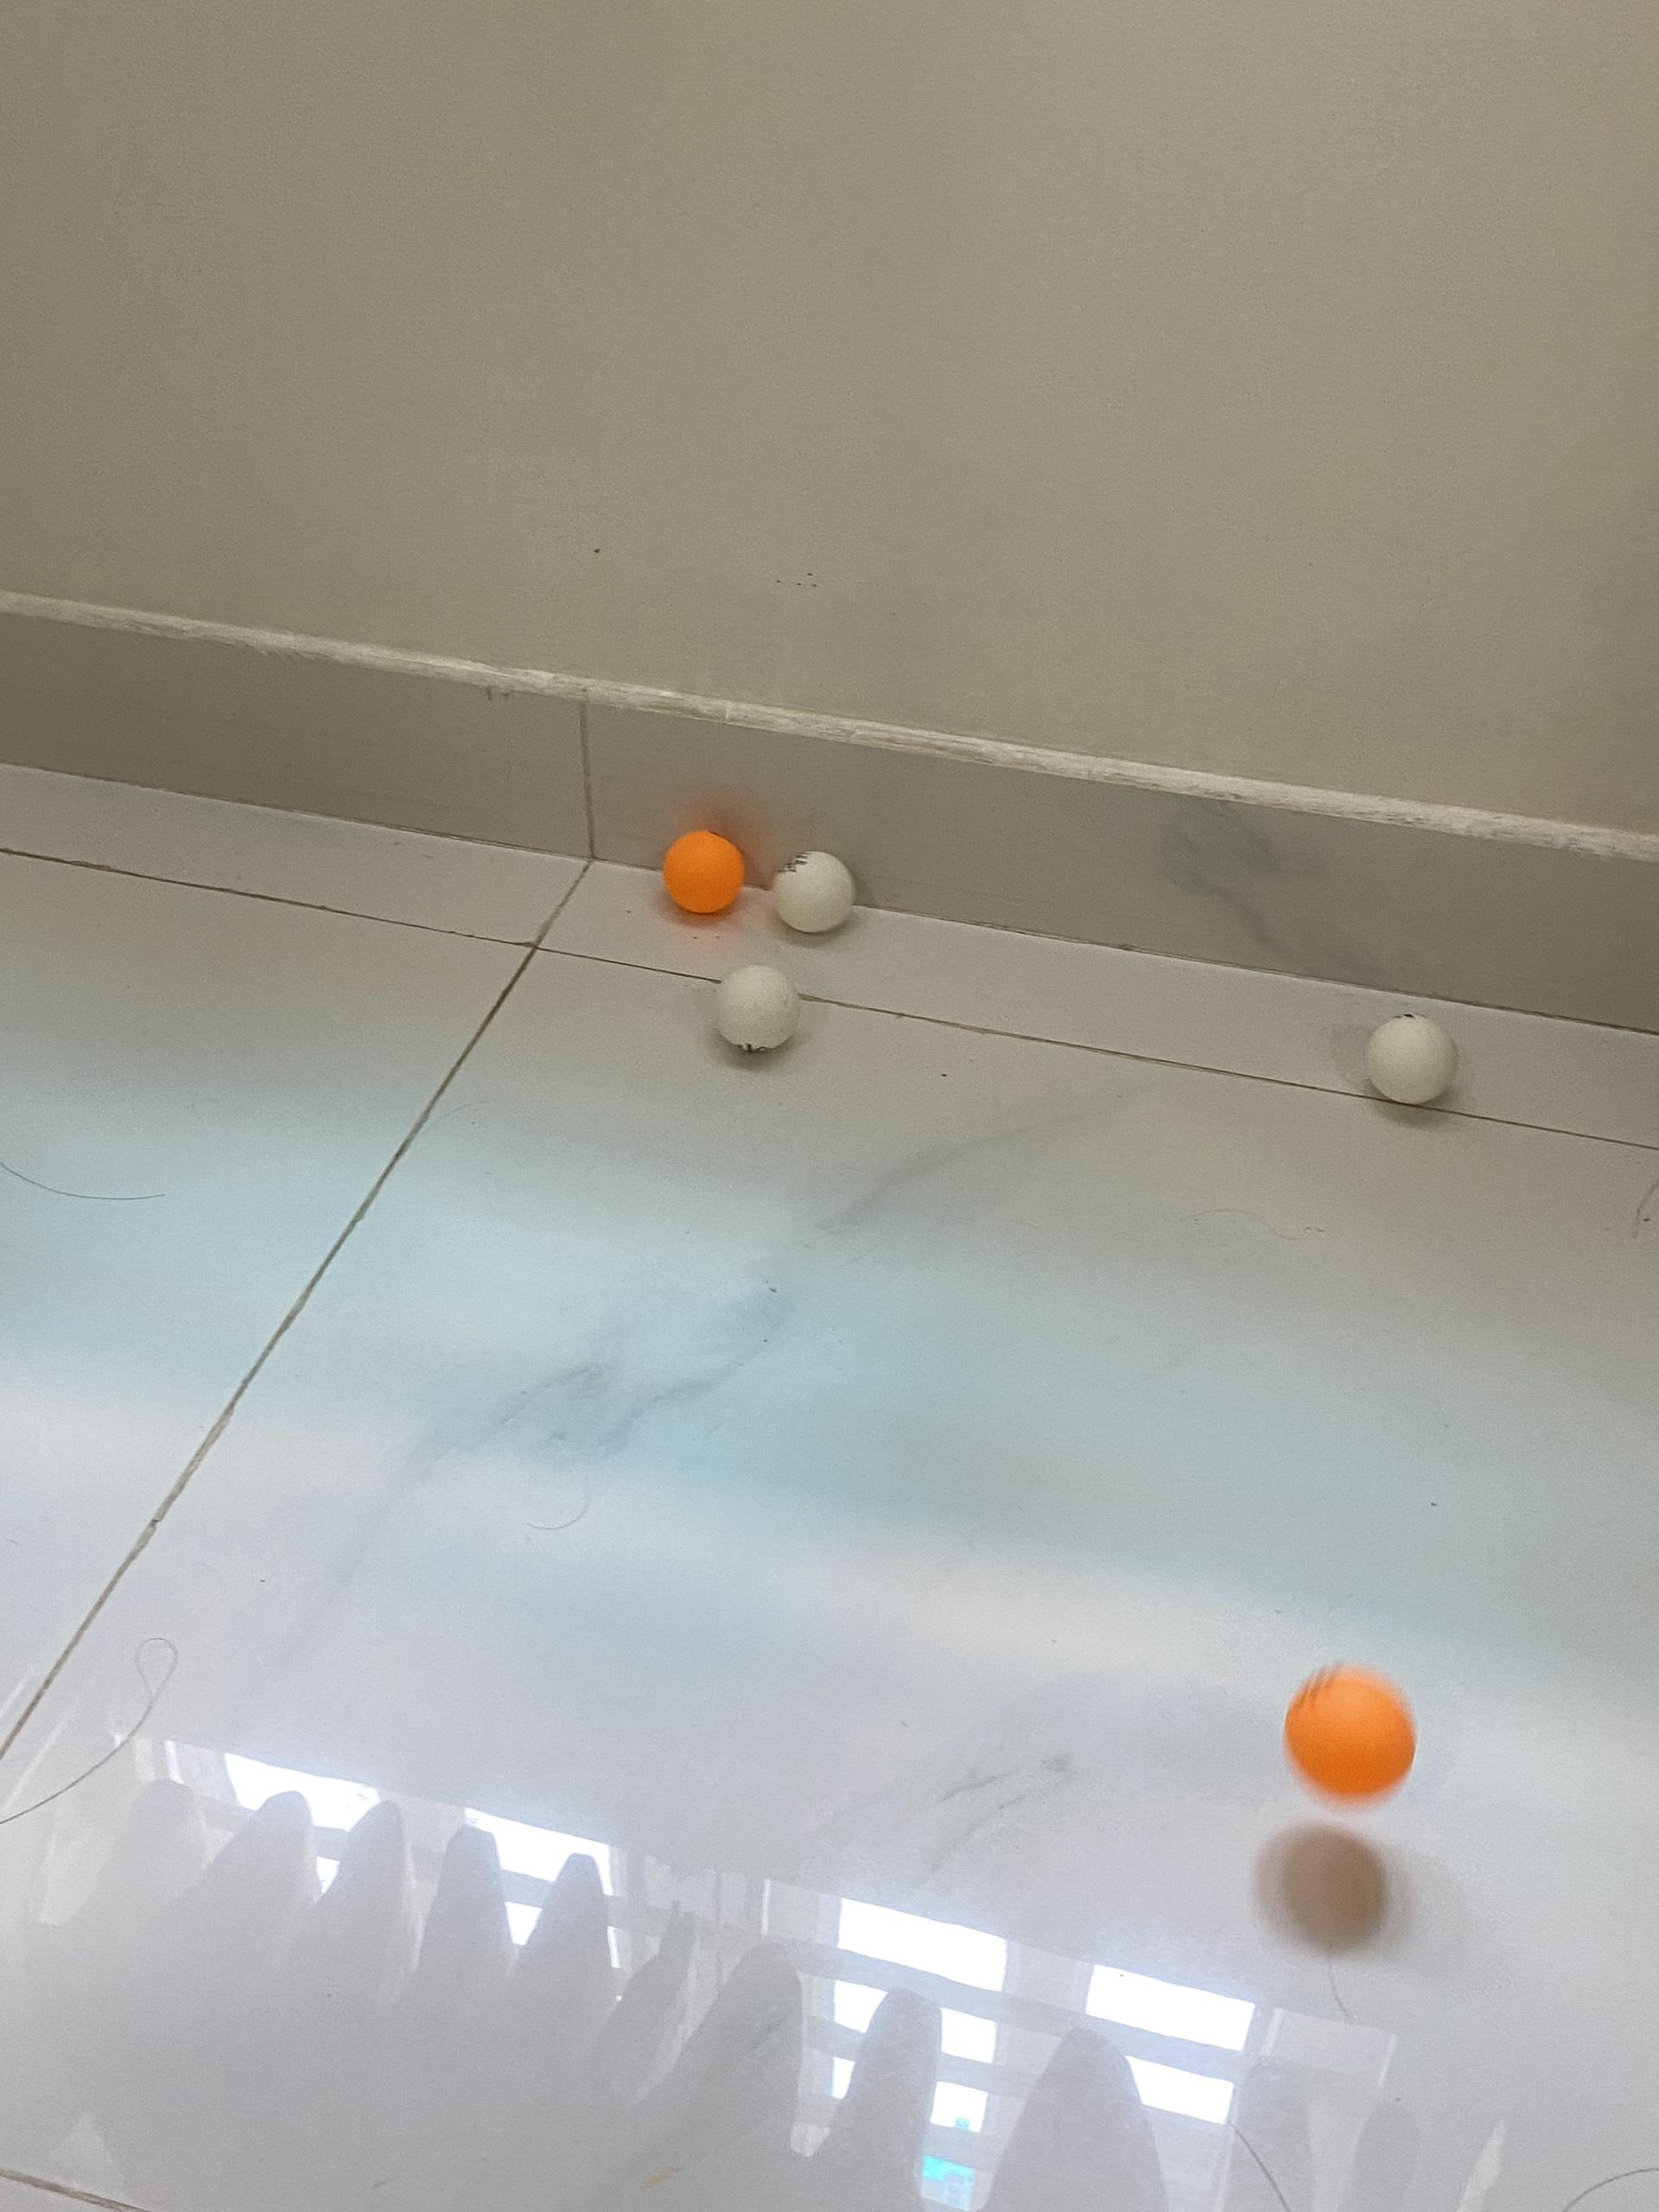oball: (1288, 1674, 1422, 1803), (1364, 1017, 1464, 1103), (711, 968, 803, 1054), (775, 850, 859, 935), (666, 824, 746, 913)
